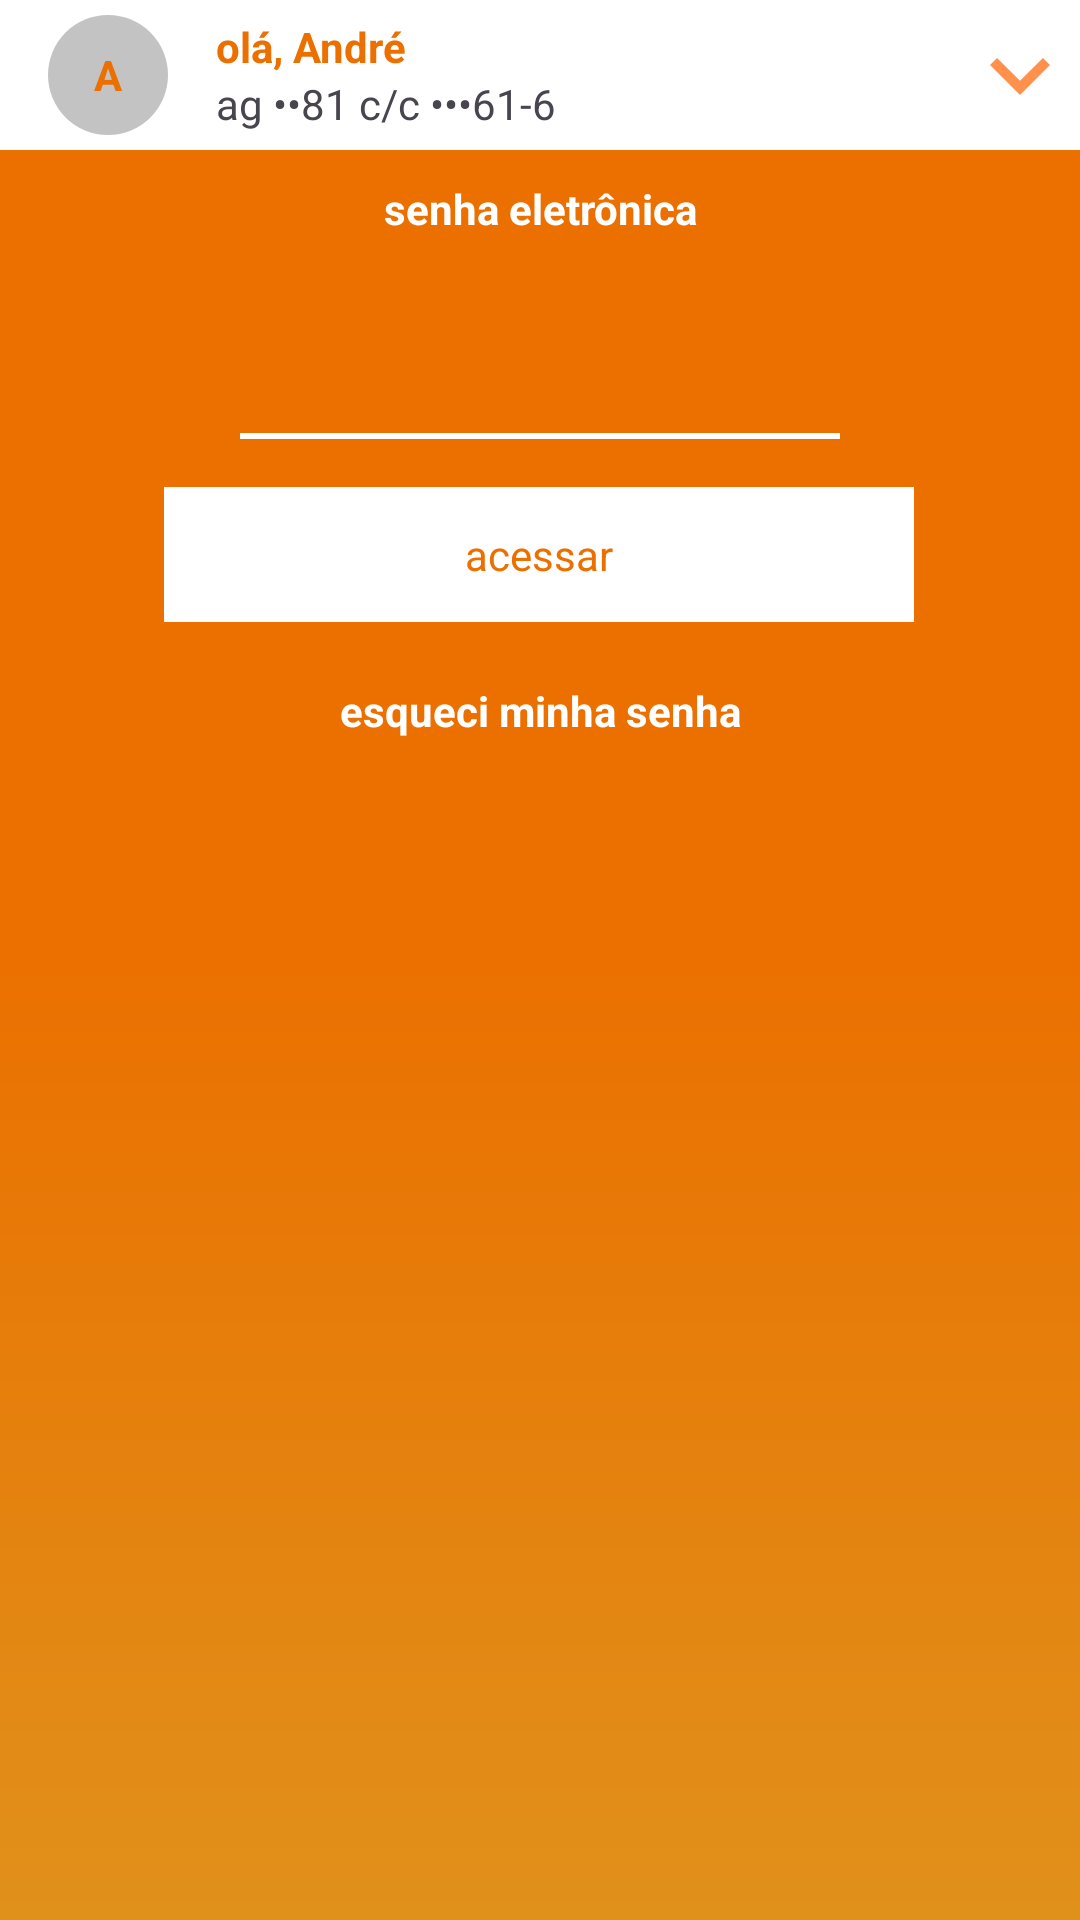

Screen size 1080px×1920px. Icon name, then its center in pixels as (x,y):
arrow collapse: (1020,76)
